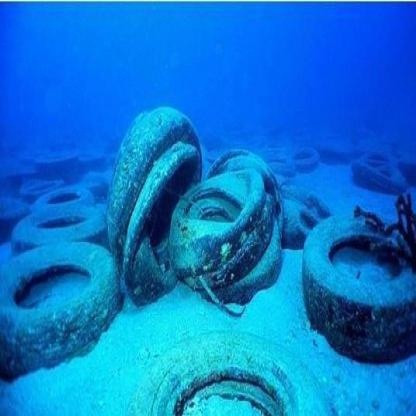tire: (172, 140, 280, 290), (1, 239, 124, 370), (134, 336, 330, 416), (326, 209, 416, 373), (122, 118, 187, 271), (18, 209, 118, 266), (37, 181, 92, 220)
